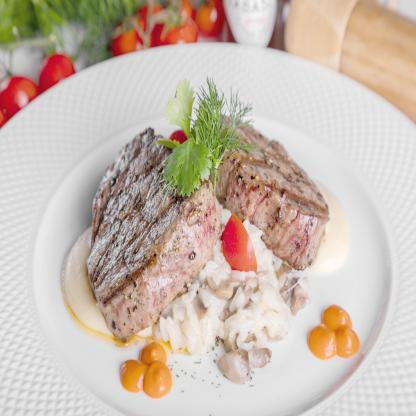Carne: (88, 129, 213, 346), (238, 112, 323, 272)
